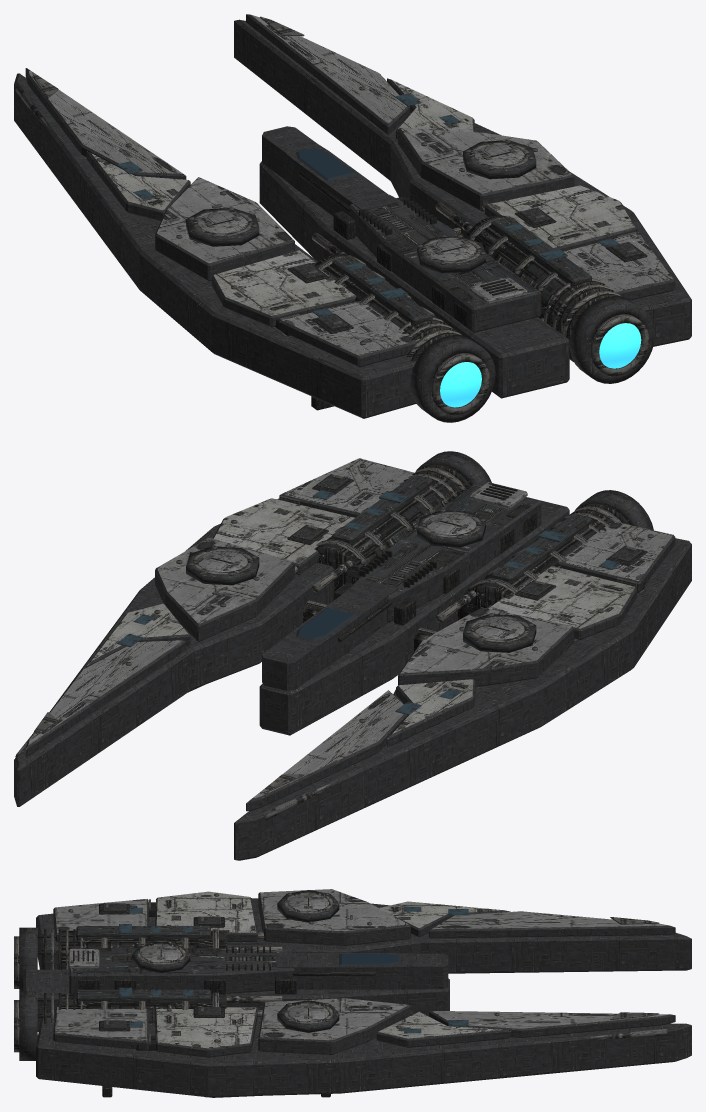
The model's file is interceptor-slate.glb.
3 views of the same model, one above another, from view 1: azimuth 30°, elevation 25°; view 2: azimuth 150°, elevation 25°; view 3: azimuth 270°, elevation 25° (orthographic). The views are drawn at different scales.
Parts seen in each view (by area): view 1: Hull_LOD0, Engine_Cores, Cockpit_Inset, CAP_S01_PORT, CAP_S03_CENTRE, CAP_S02_STARBOARD; view 2: Hull_LOD0, Cockpit_Inset, CAP_S01_PORT, CAP_S03_CENTRE, CAP_S02_STARBOARD; view 3: Hull_LOD0, Cockpit_Inset, CAP_S03_CENTRE, CAP_S01_PORT, CAP_S02_STARBOARD.
Boxes of the visible parts, x1,y1,x2,y2 form: Hull_LOD0: [14, 14, 691, 422]; Engine_Cores: [440, 323, 641, 407]; Cockpit_Inset: [296, 148, 356, 181]; CAP_S01_PORT: [197, 212, 247, 233]; CAP_S03_CENTRE: [426, 239, 476, 260]; CAP_S02_STARBOARD: [474, 144, 524, 165]; Hull_LOD0: [14, 451, 691, 860]; Cockpit_Inset: [296, 608, 356, 641]; CAP_S01_PORT: [474, 618, 524, 639]; CAP_S03_CENTRE: [426, 513, 476, 534]; CAP_S02_STARBOARD: [197, 551, 247, 571]; Hull_LOD0: [14, 889, 691, 1097]; Cockpit_Inset: [339, 953, 400, 965]; CAP_S03_CENTRE: [140, 945, 181, 962]; CAP_S01_PORT: [287, 894, 328, 911]; CAP_S02_STARBOARD: [287, 1004, 328, 1021].
Size of the model in its own units: 88.07 by 18.82 by 150.
5 materials, 2 textured.
